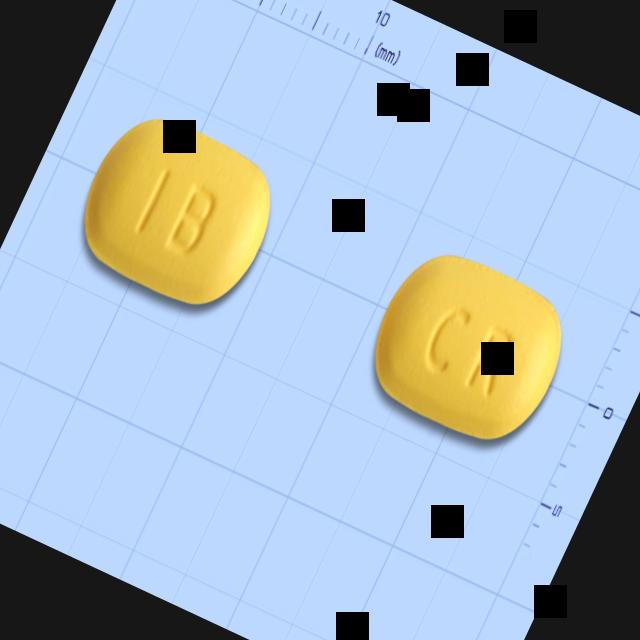Clacin -500mg: (347, 232, 592, 468), (58, 96, 300, 332)
